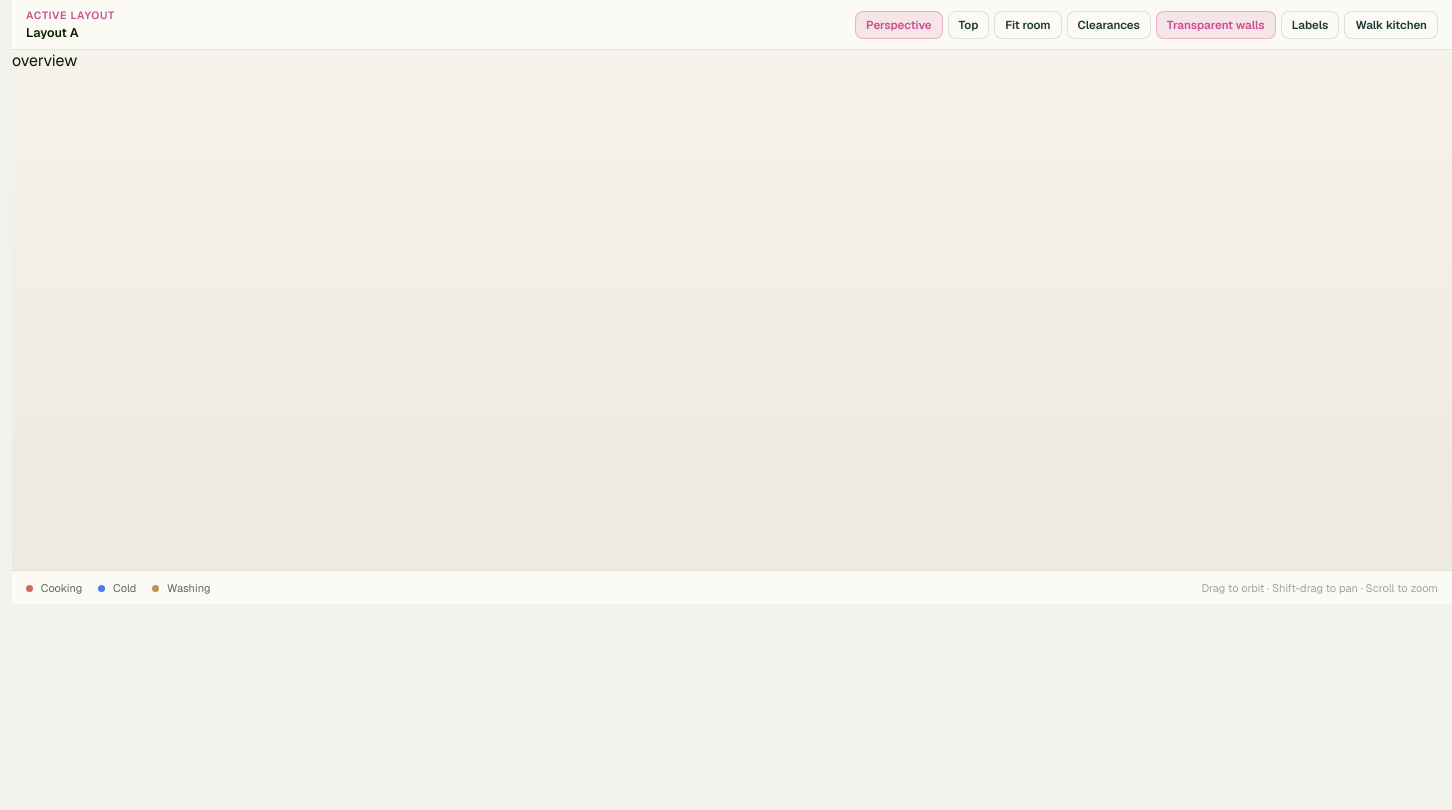
Test case: 3D scene synchronization › switches live walk cameras without remounting the renderer or resetting player motion
Click the button "Walk kitchen".
click(1391, 24)  # box [1344,10,1438,38]
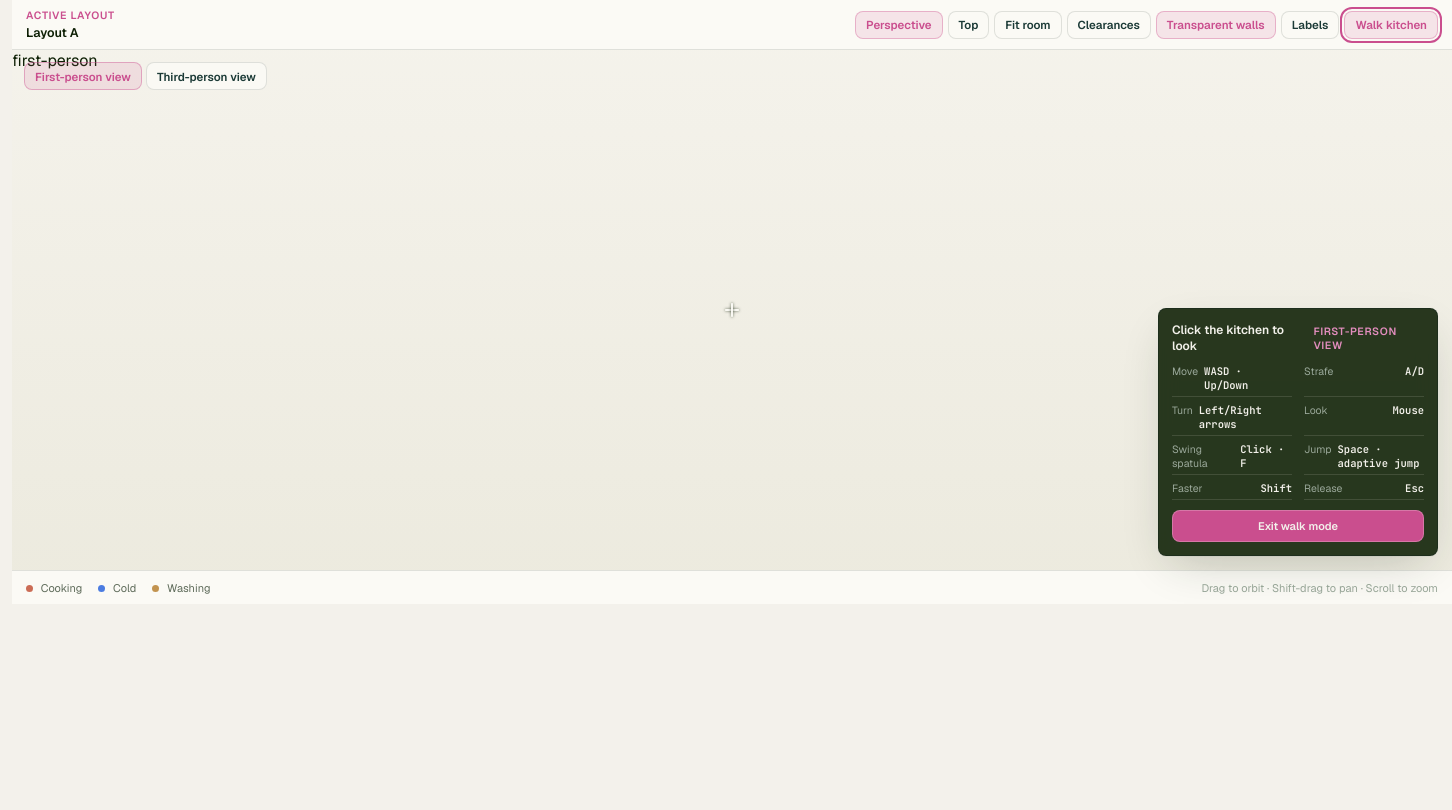
Now the text with test id "live-walk-view" reads "first-person", box [12,50,98,71]
Click the button "Third-person view".
click(206, 76)  # box [146,62,267,90]
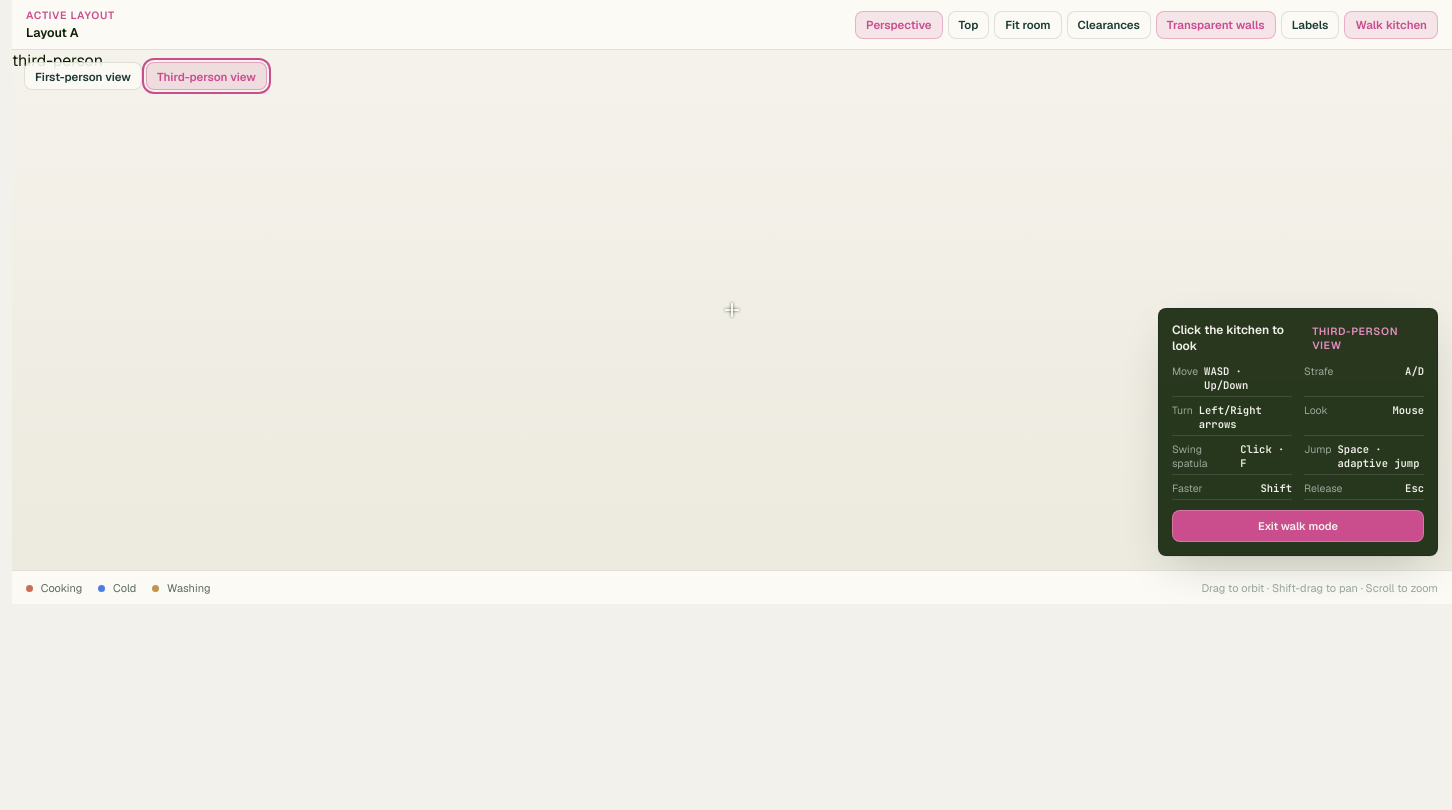
Now the text with test id "live-walk-view" reads "third-person", box [12,50,103,71]
